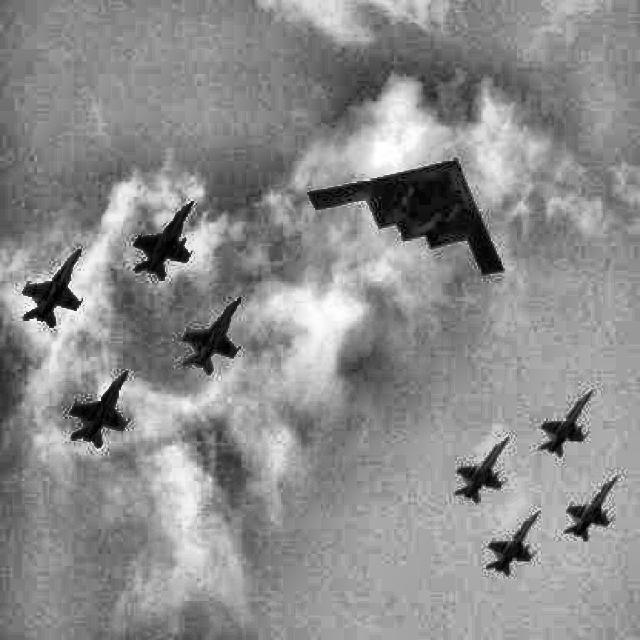B2: (308, 158, 504, 278)
F18: (22, 248, 84, 328), (134, 200, 194, 280), (70, 370, 130, 448), (182, 297, 242, 375), (454, 434, 511, 504), (538, 388, 594, 458), (485, 509, 541, 576), (564, 474, 619, 541)
